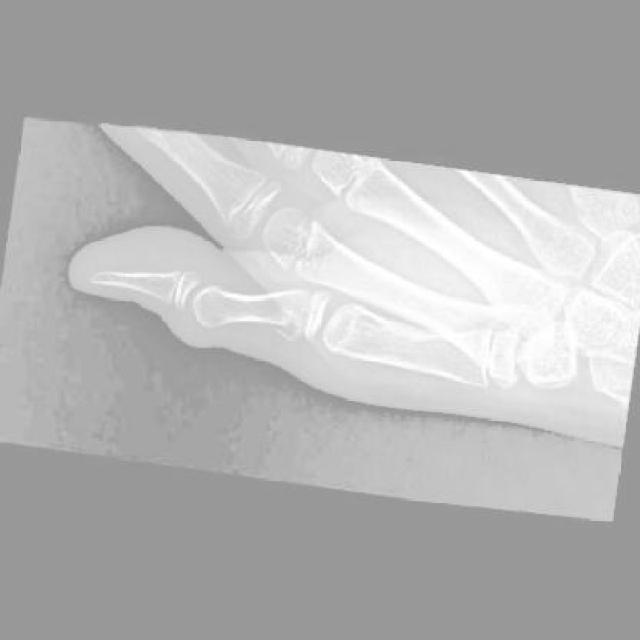Fracture: (265, 288, 321, 351)
